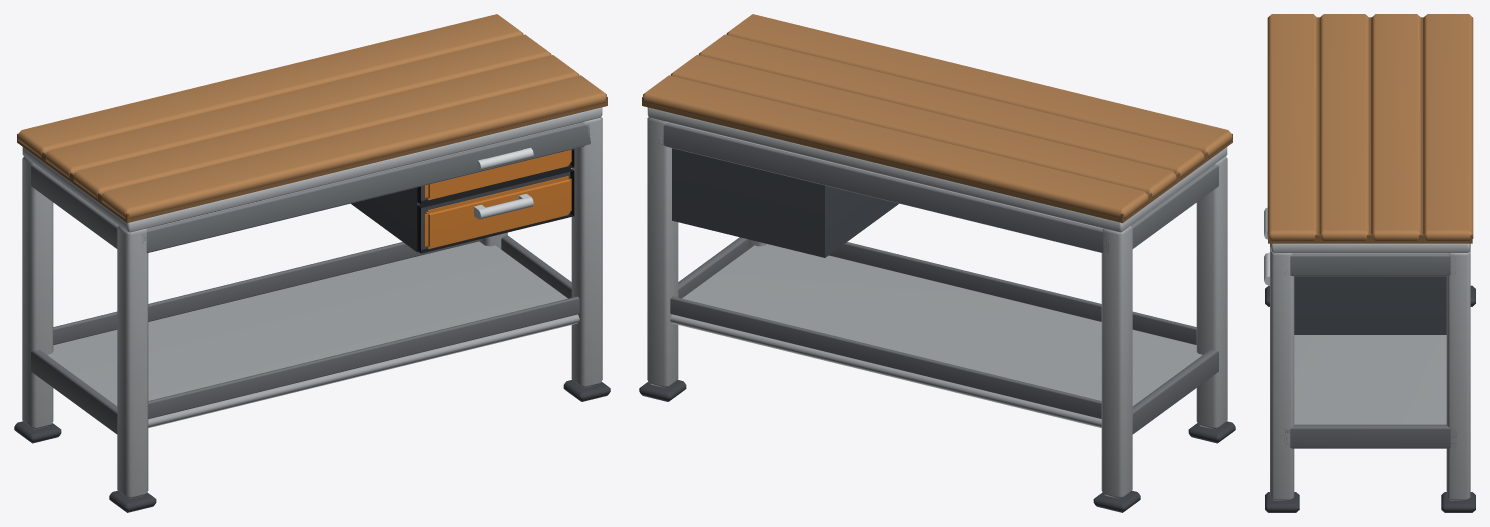
The model's file is Workbench_Steel_01.glb.
3 views of the same model, side by side, from view 1: azimuth 30°, elevation 25°; view 2: azimuth 150°, elevation 25°; view 3: azimuth 270°, elevation 25° (orthographic). The views are drawn at different scales.
Parts seen in each view (by area): view 1: SM_Workbench_Steel_01; view 2: SM_Workbench_Steel_01; view 3: SM_Workbench_Steel_01.
Boxes of the visible parts, bbox=[...] form: SM_Workbench_Steel_01: bbox=[14, 14, 610, 512]; SM_Workbench_Steel_01: bbox=[639, 14, 1235, 512]; SM_Workbench_Steel_01: bbox=[1264, 14, 1475, 512].
Bounding box in the file's own units: 1.51 × 0.9 × 0.6125.
Materials: 1 (1 with a texture image).
